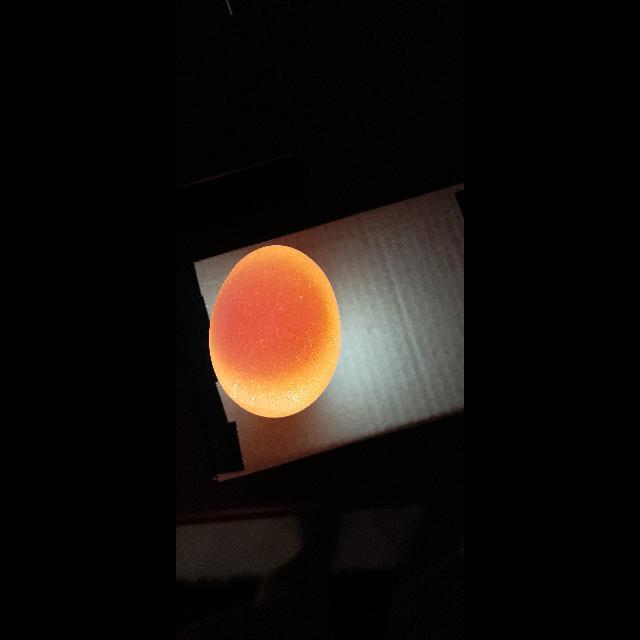A - Good: (214, 235, 340, 420)
